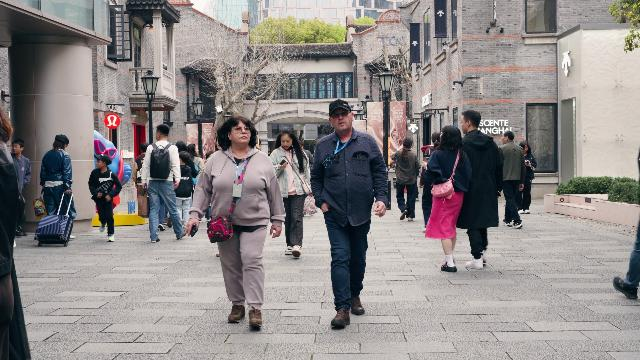person: (188, 117, 299, 340), (309, 99, 389, 329), (419, 125, 473, 272), (455, 110, 504, 270), (0, 109, 31, 360), (268, 127, 314, 258), (141, 124, 187, 243), (39, 134, 78, 240), (88, 154, 122, 243), (499, 131, 526, 229), (391, 137, 421, 222), (418, 132, 442, 231), (10, 138, 32, 238)
